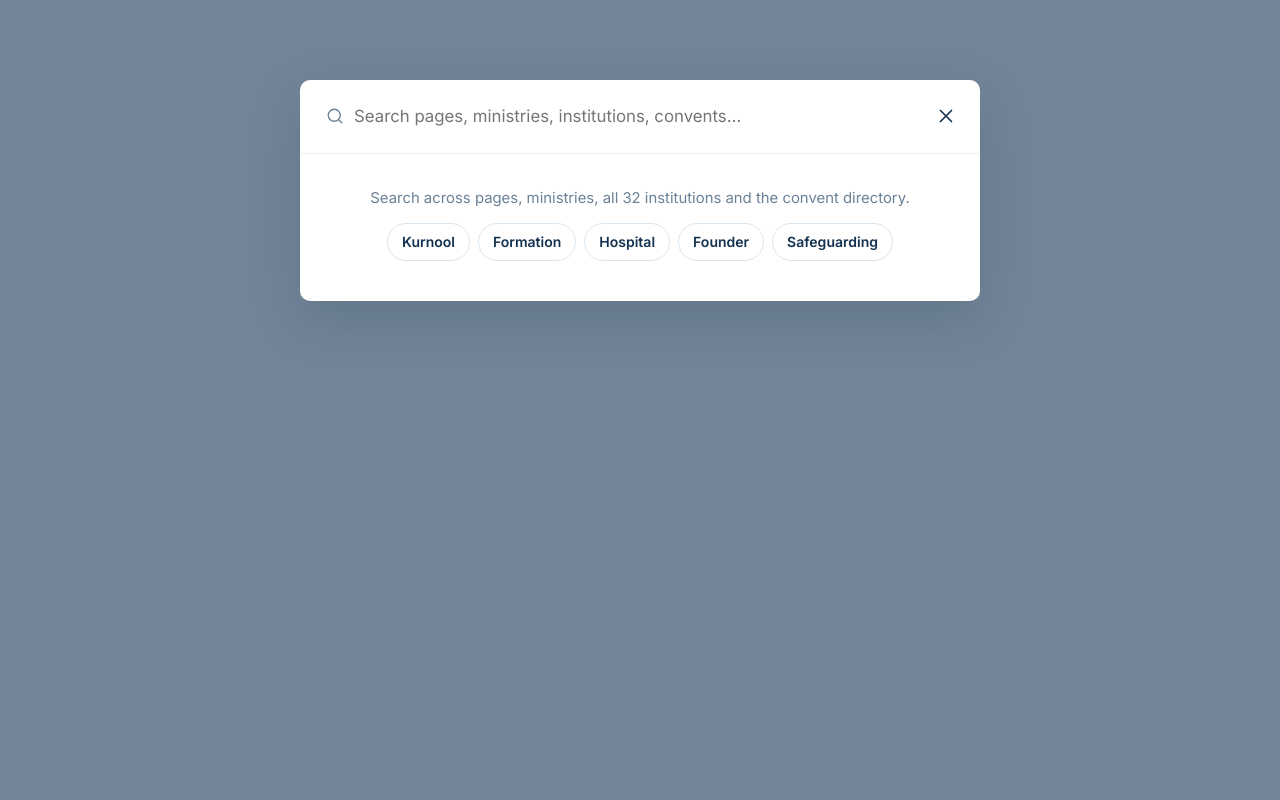
Test: GlobalSearchDialog › shows an empty state when nothing matches
In the search field named "search this website": coordinates (614, 116) [312,92,916,140], type "zzzznothing"
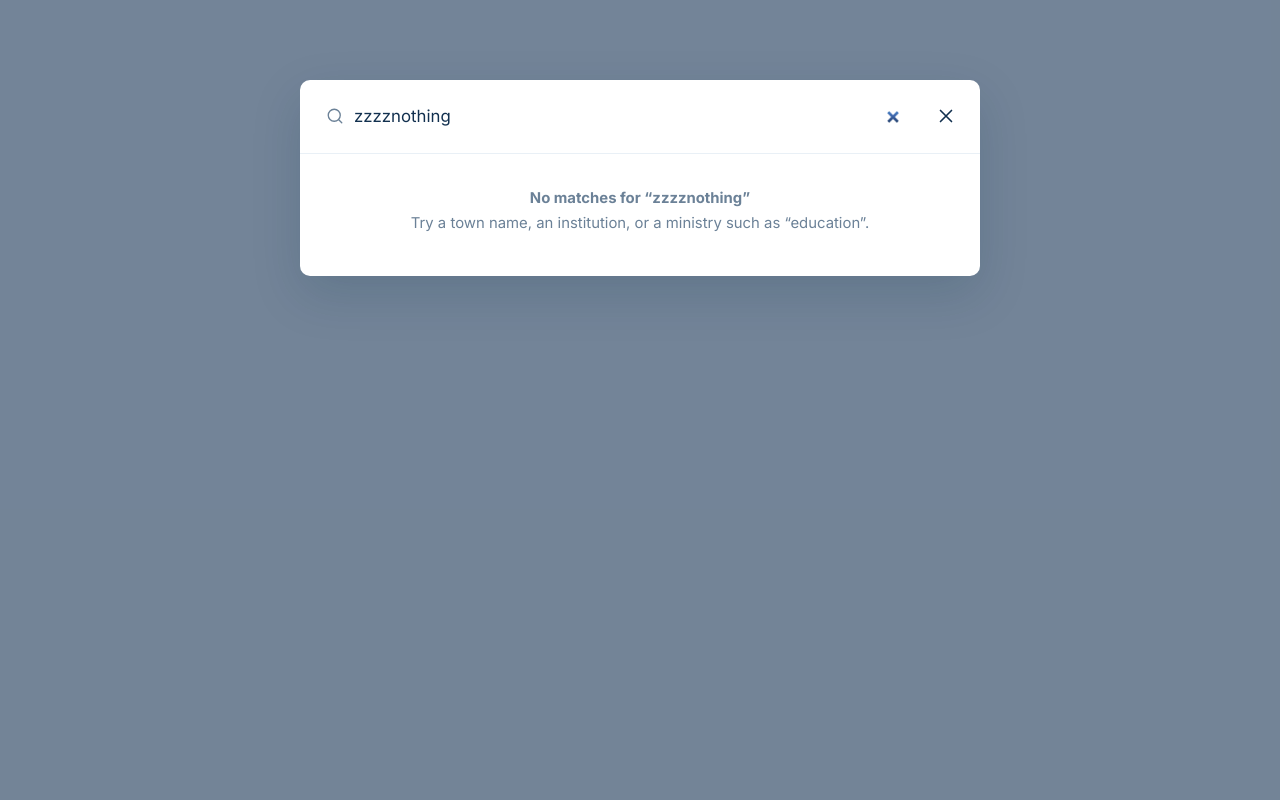
Now the text "No matches for “zzzznothing”" is shown, box [530,188,750,206]
